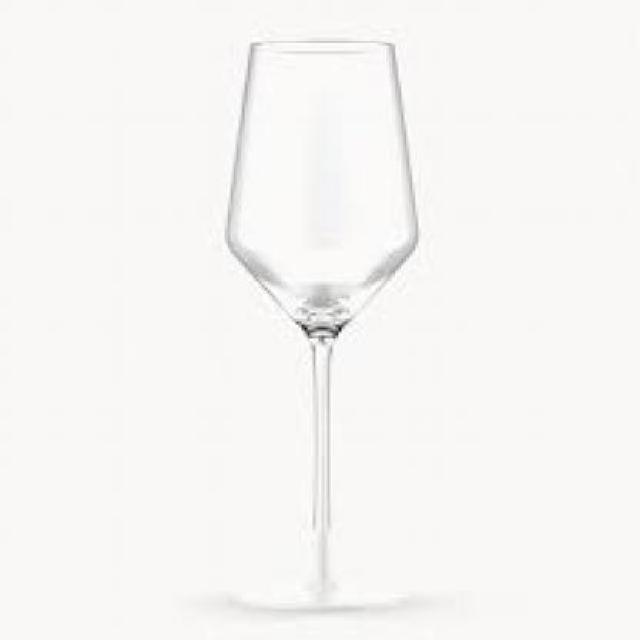kaca: (218, 37, 416, 612)
